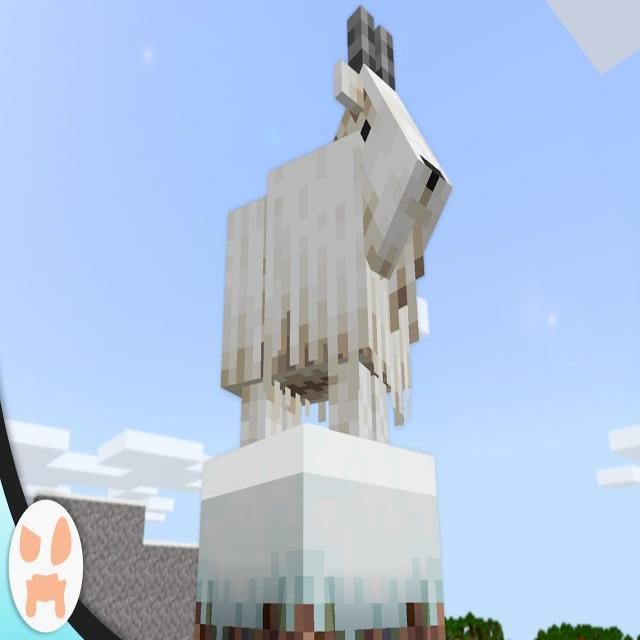Goat: (222, 1, 453, 443)
